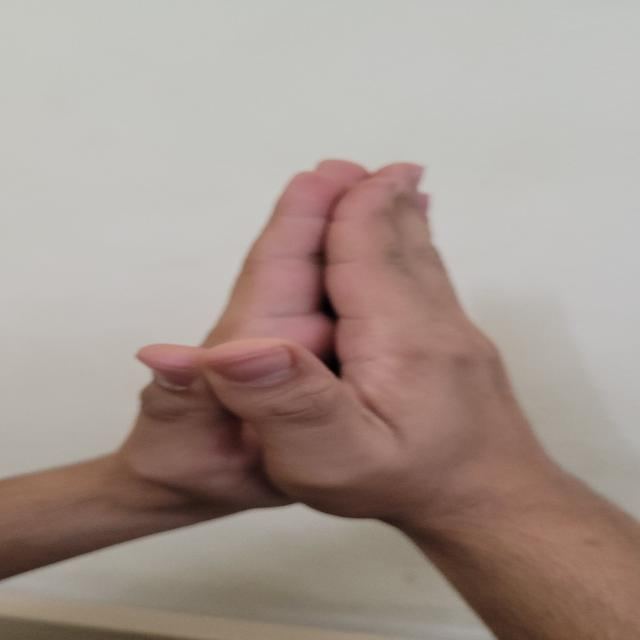Thank You: (107, 142, 570, 546)
